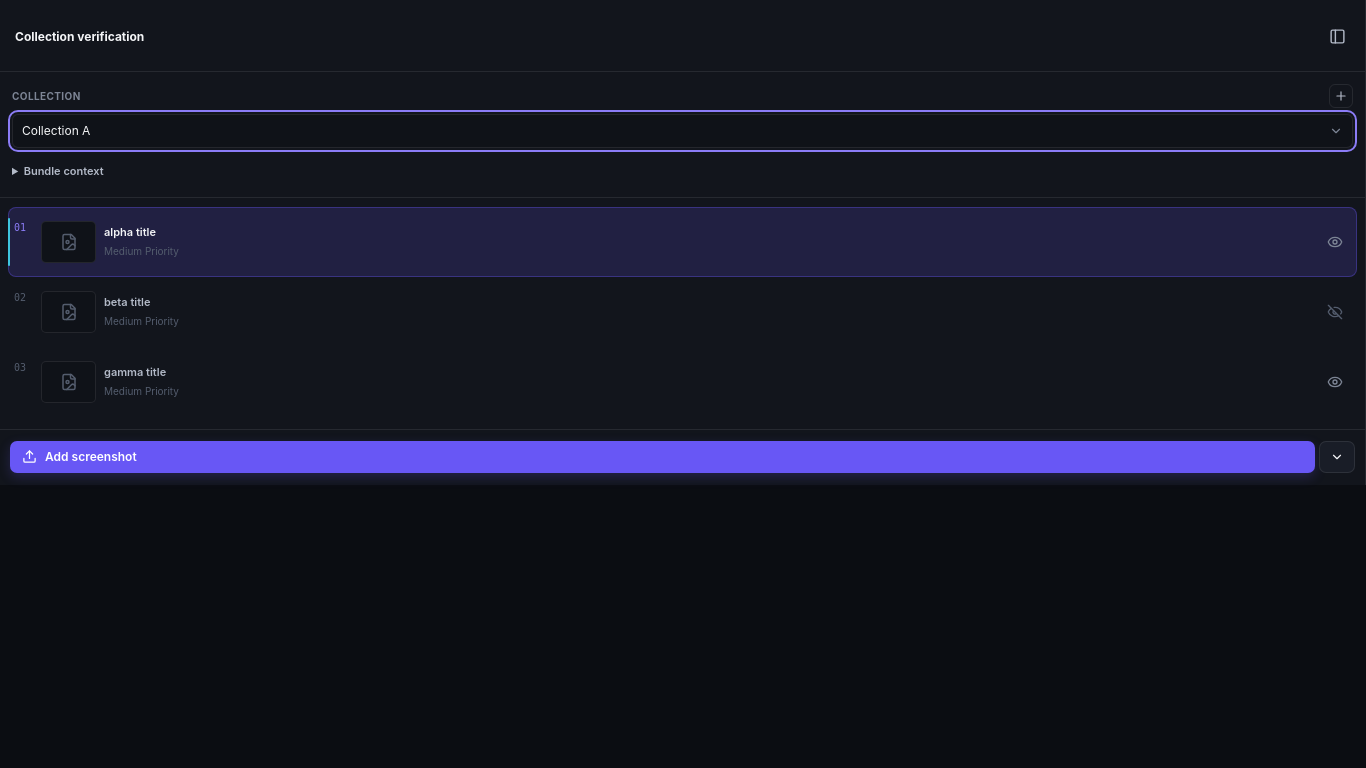
Scenario: CollectionRail › renames any collection from its picker row without changing the selection
Press End in the button with test id "collection-picker" showing "Collection A", box [12,114,1353,148]
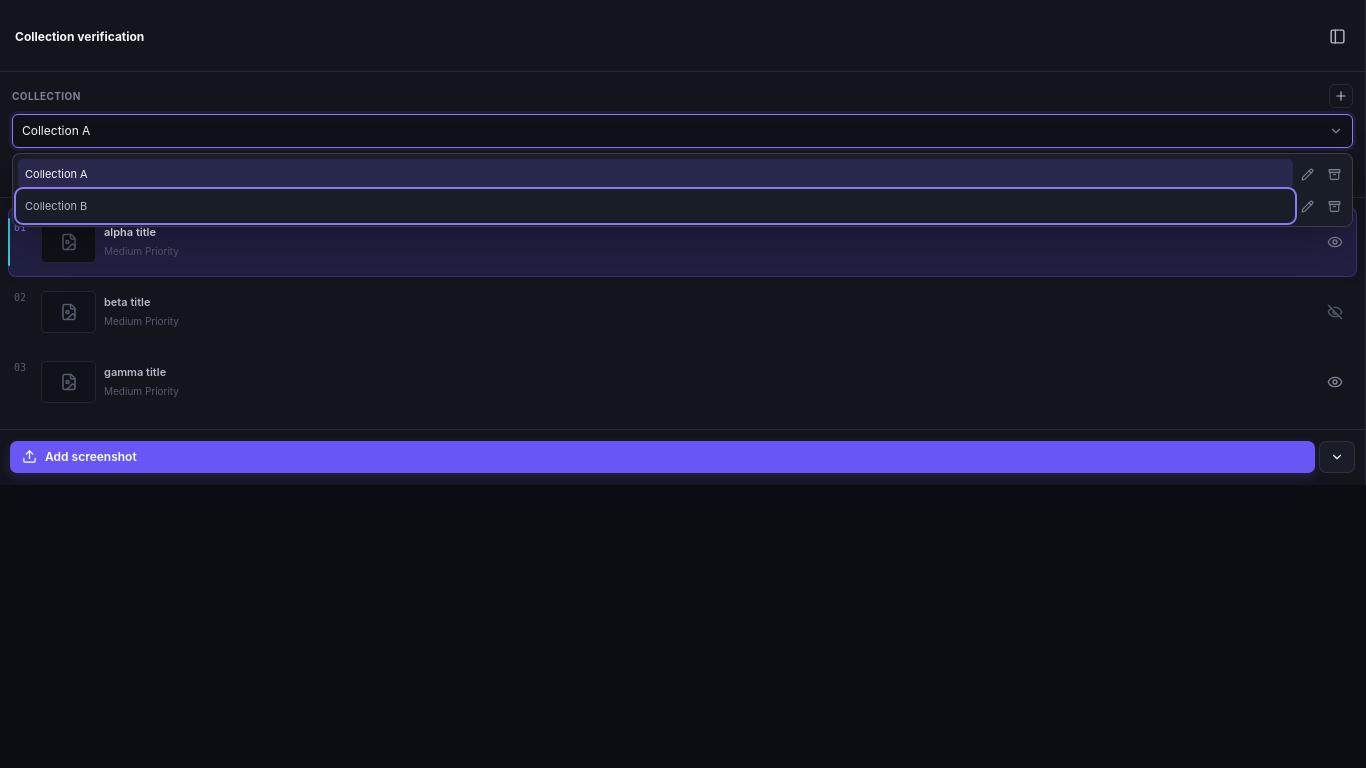
Press ArrowDown in the menu item "Collection B", box [18,191,1293,221]
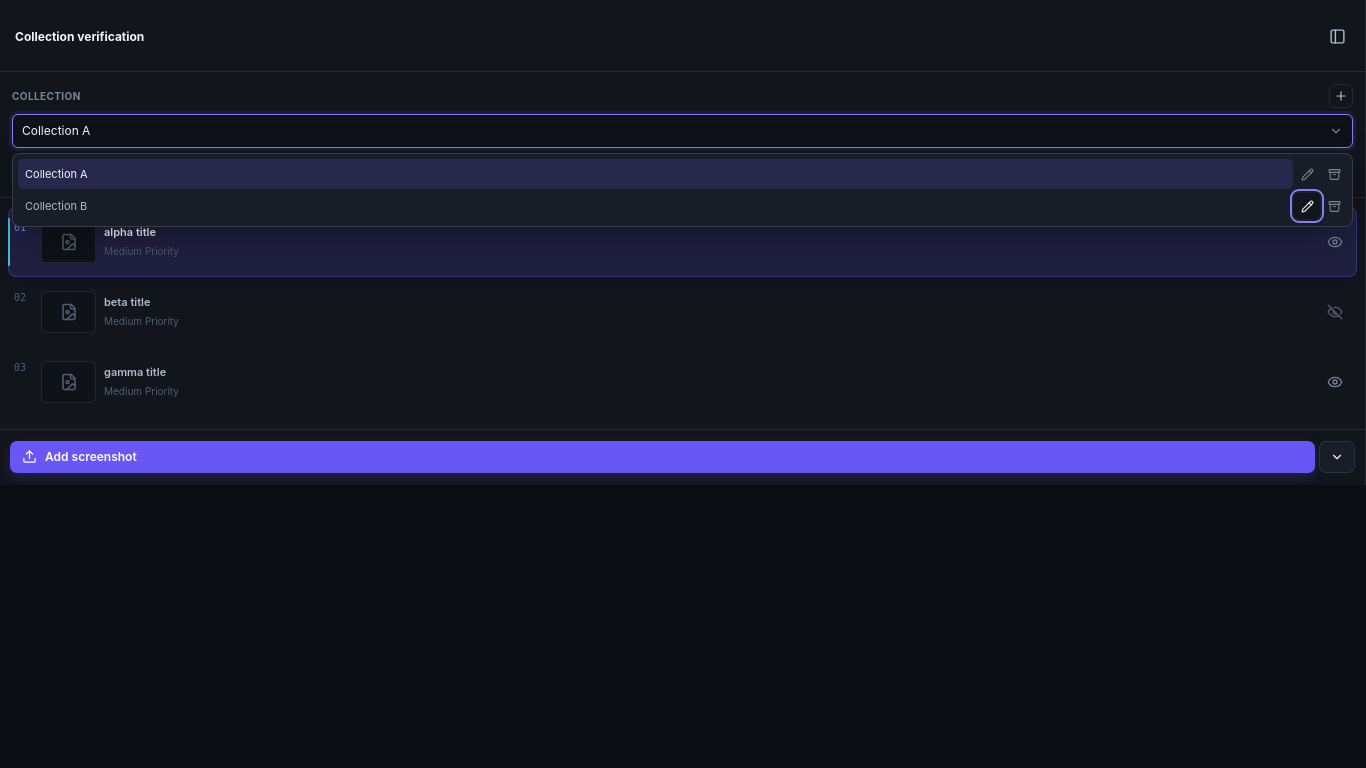
Press Enter in the menu item named "Rename Collection B", box [1294,193,1320,219]
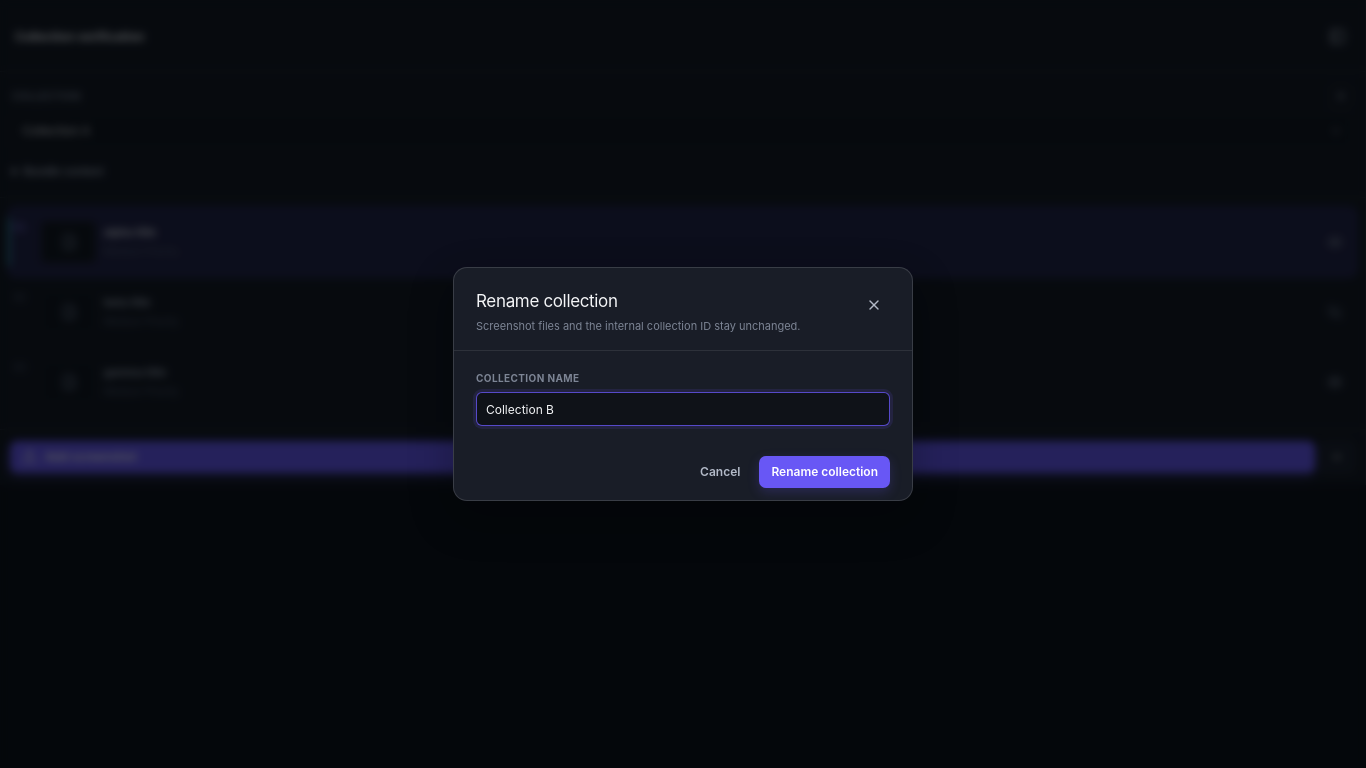
Check: the menu "Collections" is gone
Check: the field labelled "Collection name" holds "Collection B"
Replace the text in the field labelled "Collection name" with "Review round" at (683, 409), box [476,392,890,426]
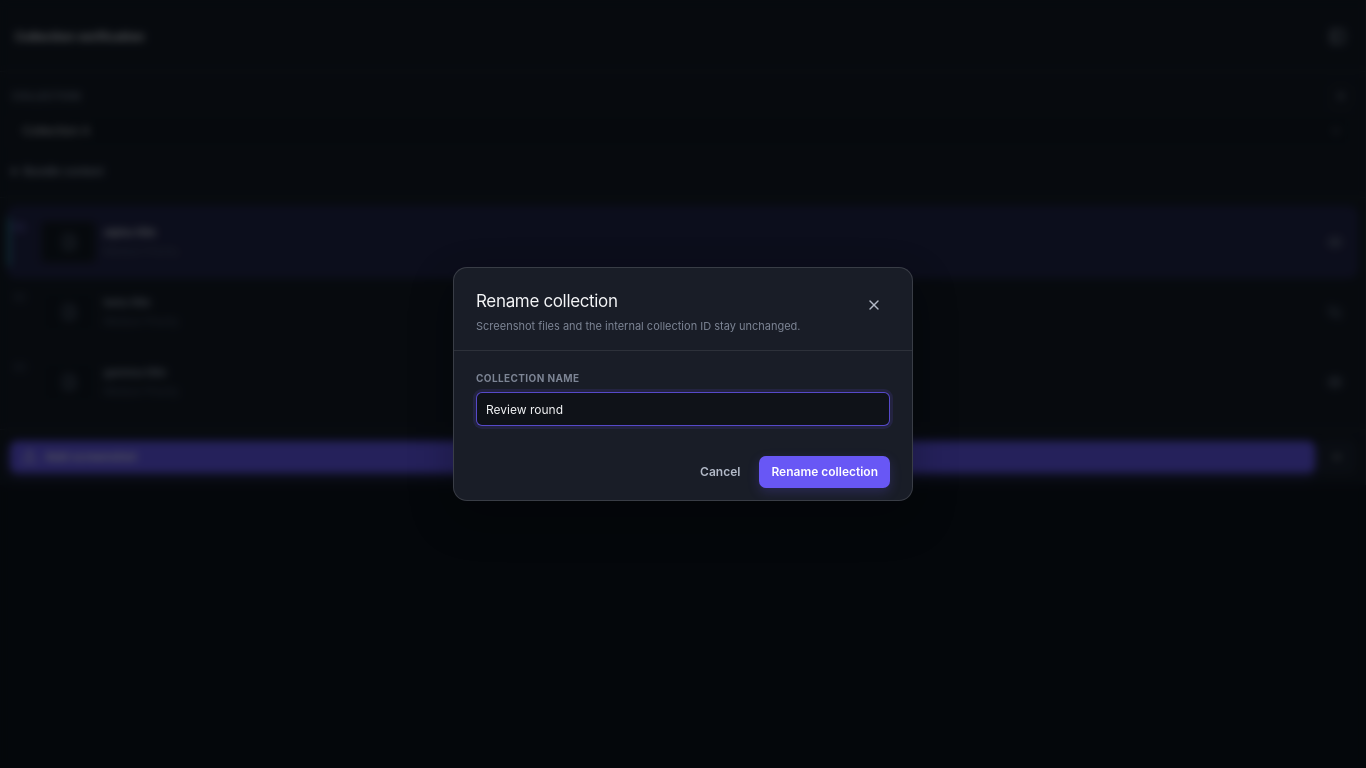
Click the button "Rename collection" at (825, 472), box [759,456,890,488]
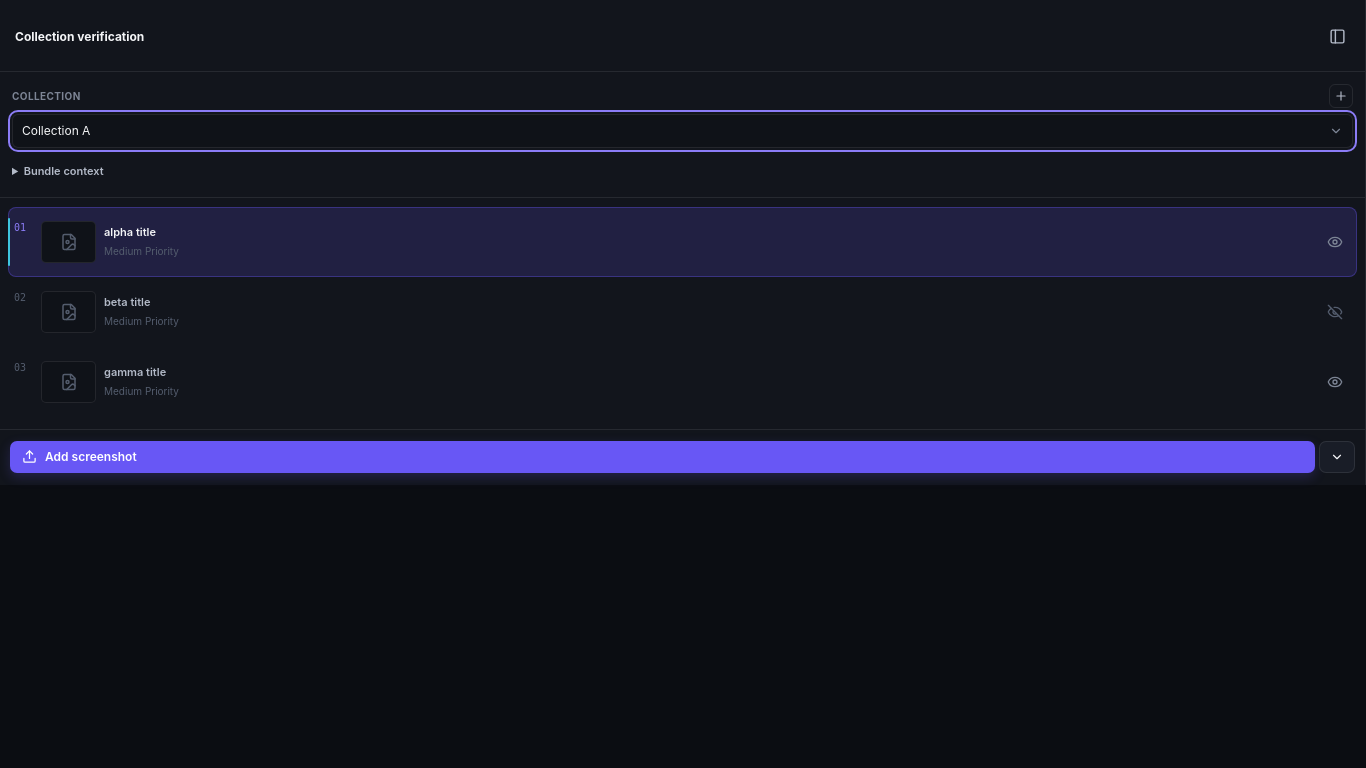
Check: the button with test id "collection-picker" reads "Collection A", box [12,114,1353,148]
Check: the heading "Rename collection" is gone
